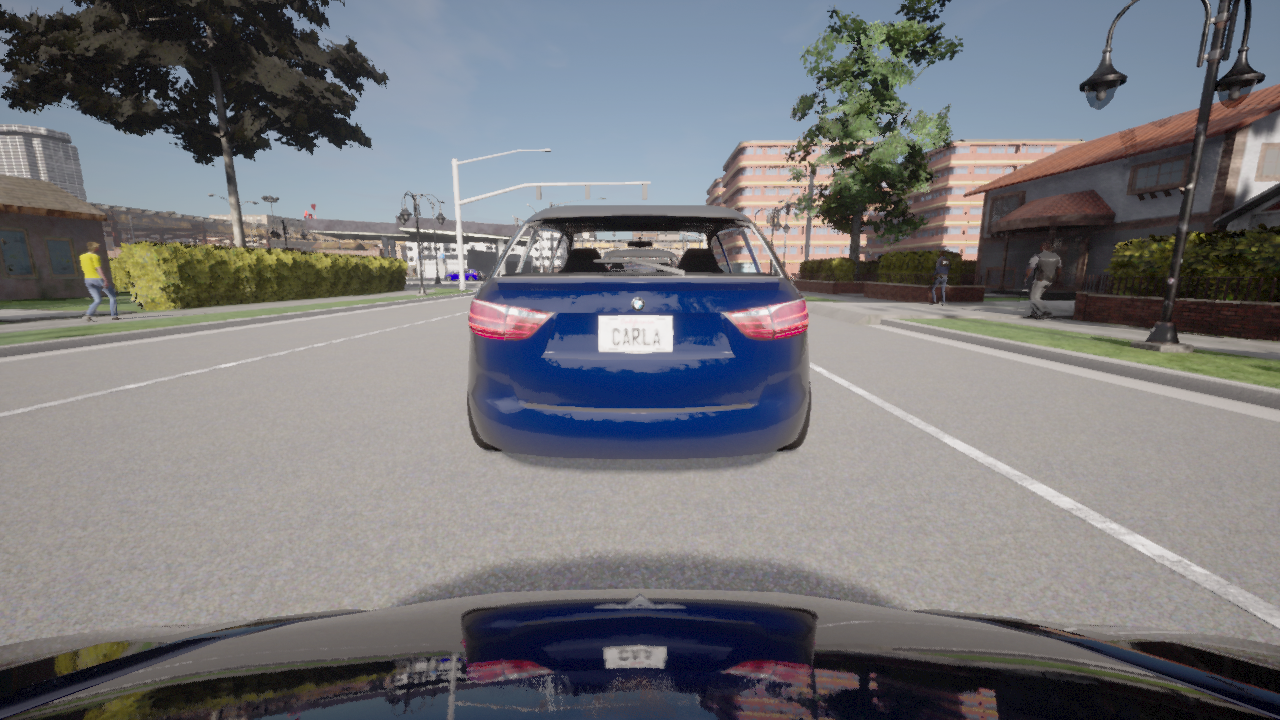cyclist: (0, 588, 1279, 719), (467, 205, 810, 459), (444, 269, 481, 280), (479, 271, 486, 280)
pedestrian: (79, 240, 124, 322), (1022, 241, 1062, 319), (930, 248, 951, 305)
